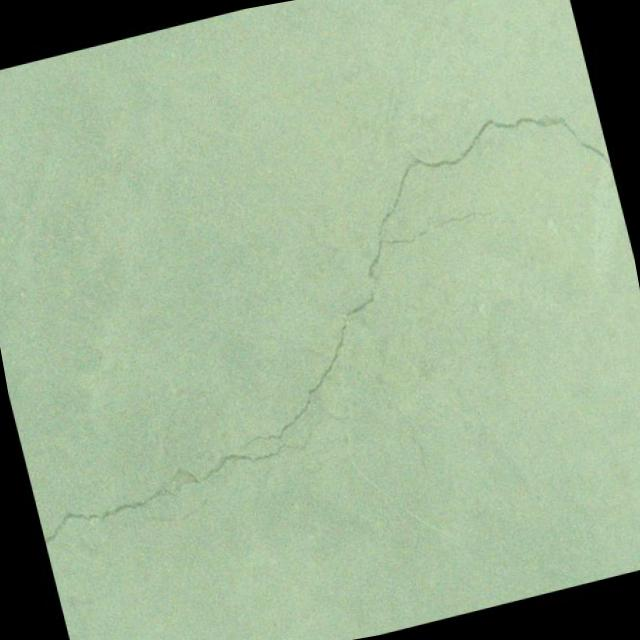crack: (163, 58, 640, 453), (28, 400, 397, 546), (393, 401, 438, 512), (372, 539, 422, 622), (149, 496, 221, 529), (294, 75, 328, 107)
